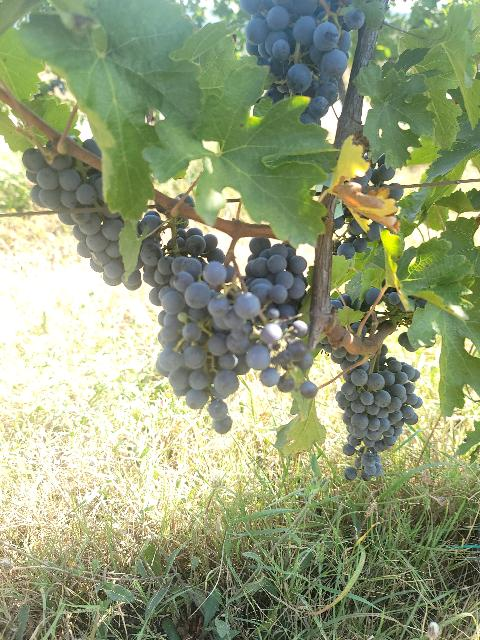grapes: (140, 211, 239, 432), (22, 148, 141, 289), (239, 0, 365, 124), (235, 238, 312, 392), (335, 355, 422, 481), (206, 292, 282, 380)
